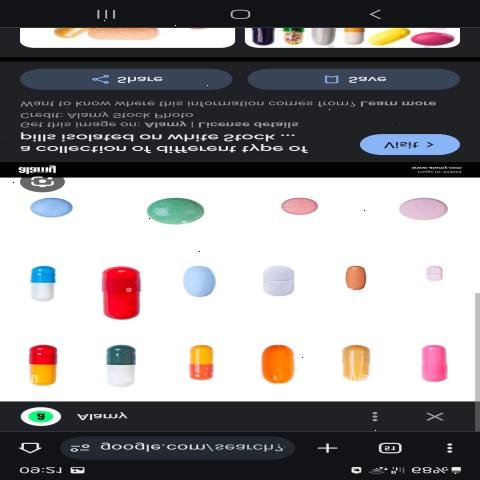Pill: (398, 322, 480, 389), (87, 258, 164, 326), (91, 334, 157, 394), (320, 333, 392, 387), (136, 190, 218, 234), (243, 334, 306, 390), (24, 336, 83, 391), (246, 253, 312, 298), (389, 184, 458, 226), (178, 252, 234, 302), (16, 194, 100, 227), (13, 259, 68, 309), (171, 339, 231, 382), (273, 190, 332, 226), (331, 256, 385, 294), (418, 258, 454, 284)
